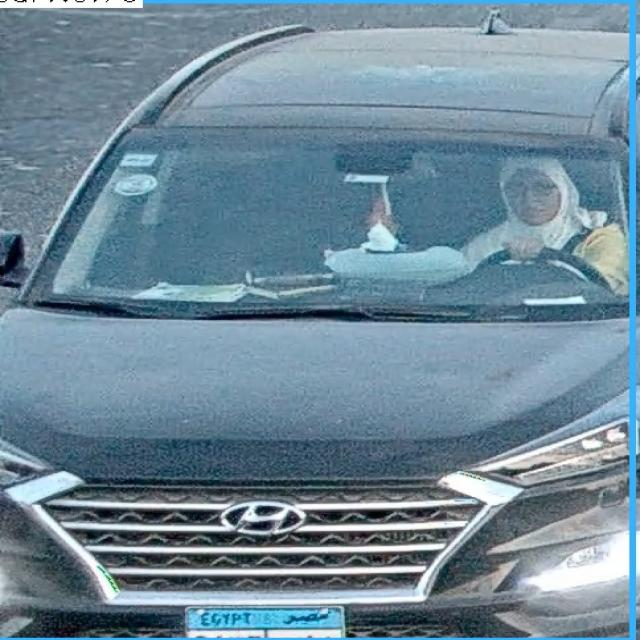windshield: (42, 122, 634, 316)
